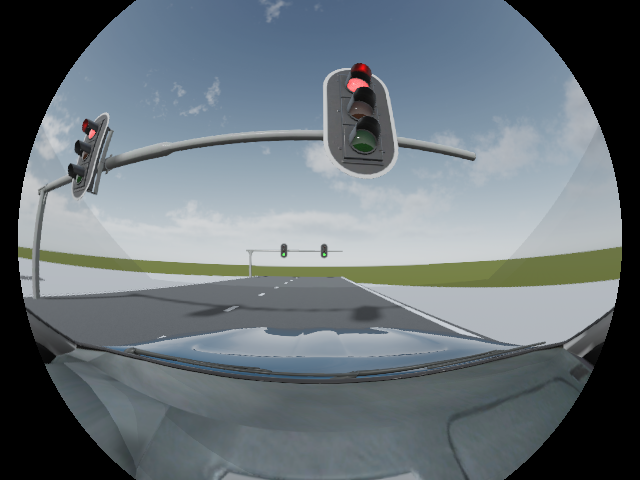Green Light: (321, 244, 329, 259), (281, 245, 287, 258)
Red Light: (325, 62, 397, 178)
